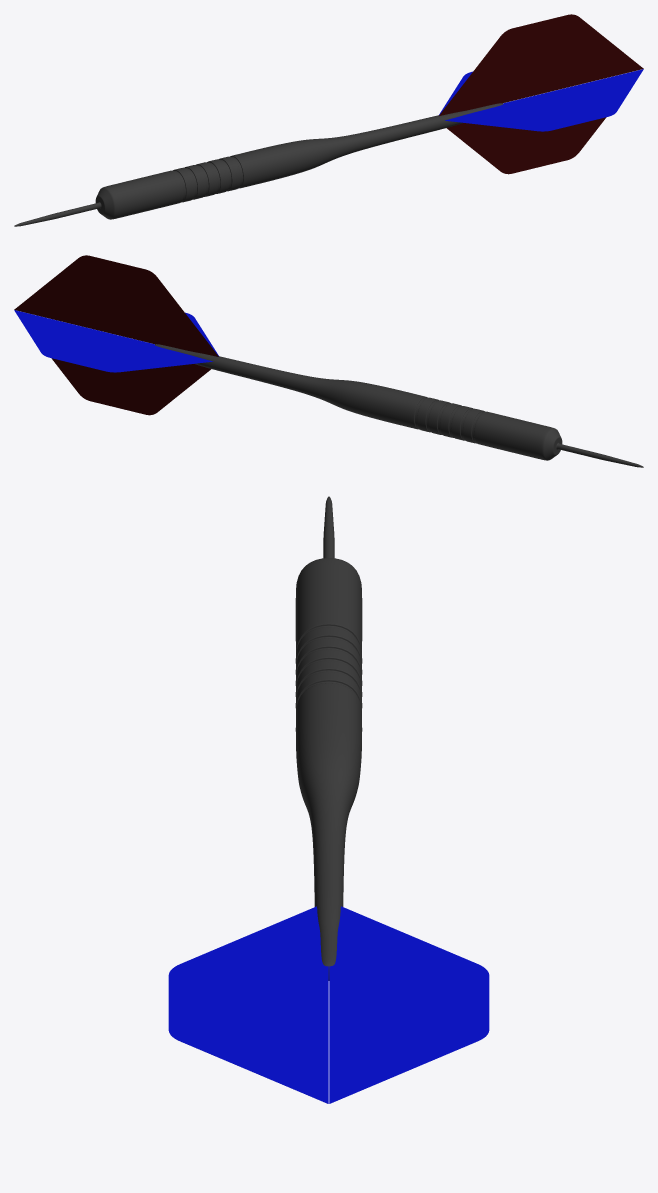
File: dart.FBX
3 views of the same model, one above another, from view 1: azimuth 30°, elevation 25°; view 2: azimuth 150°, elevation 25°; view 3: azimuth 270°, elevation 25° (orthographic). The views are drawn at different scales.
Parts seen in each view (by area): view 1: Dart_base, Dart_Fin1, Dart_Fin4, Dart_Fin3; view 2: Dart_base, Dart_Fin1, Dart_Fin2, Dart_Fin3; view 3: Dart_Fin2, Dart_Fin4, Dart_base.
Boxes of the visible parts, box(x1,y1,x2,y2) form: Dart_base: box(14, 103, 502, 226); Dart_Fin1: box(439, 14, 643, 115); Dart_Fin4: box(445, 69, 643, 131); Dart_Fin3: box(446, 117, 606, 174); Dart_base: box(155, 344, 643, 467); Dart_Fin1: box(14, 255, 218, 356); Dart_Fin2: box(14, 310, 213, 372); Dart_Fin3: box(51, 358, 211, 415); Dart_Fin2: box(329, 906, 489, 1103); Dart_Fin4: box(168, 906, 328, 1103); Dart_base: box(295, 496, 362, 980).
Bounding box in the file's own units: 182 × 40.08 × 40.08.
